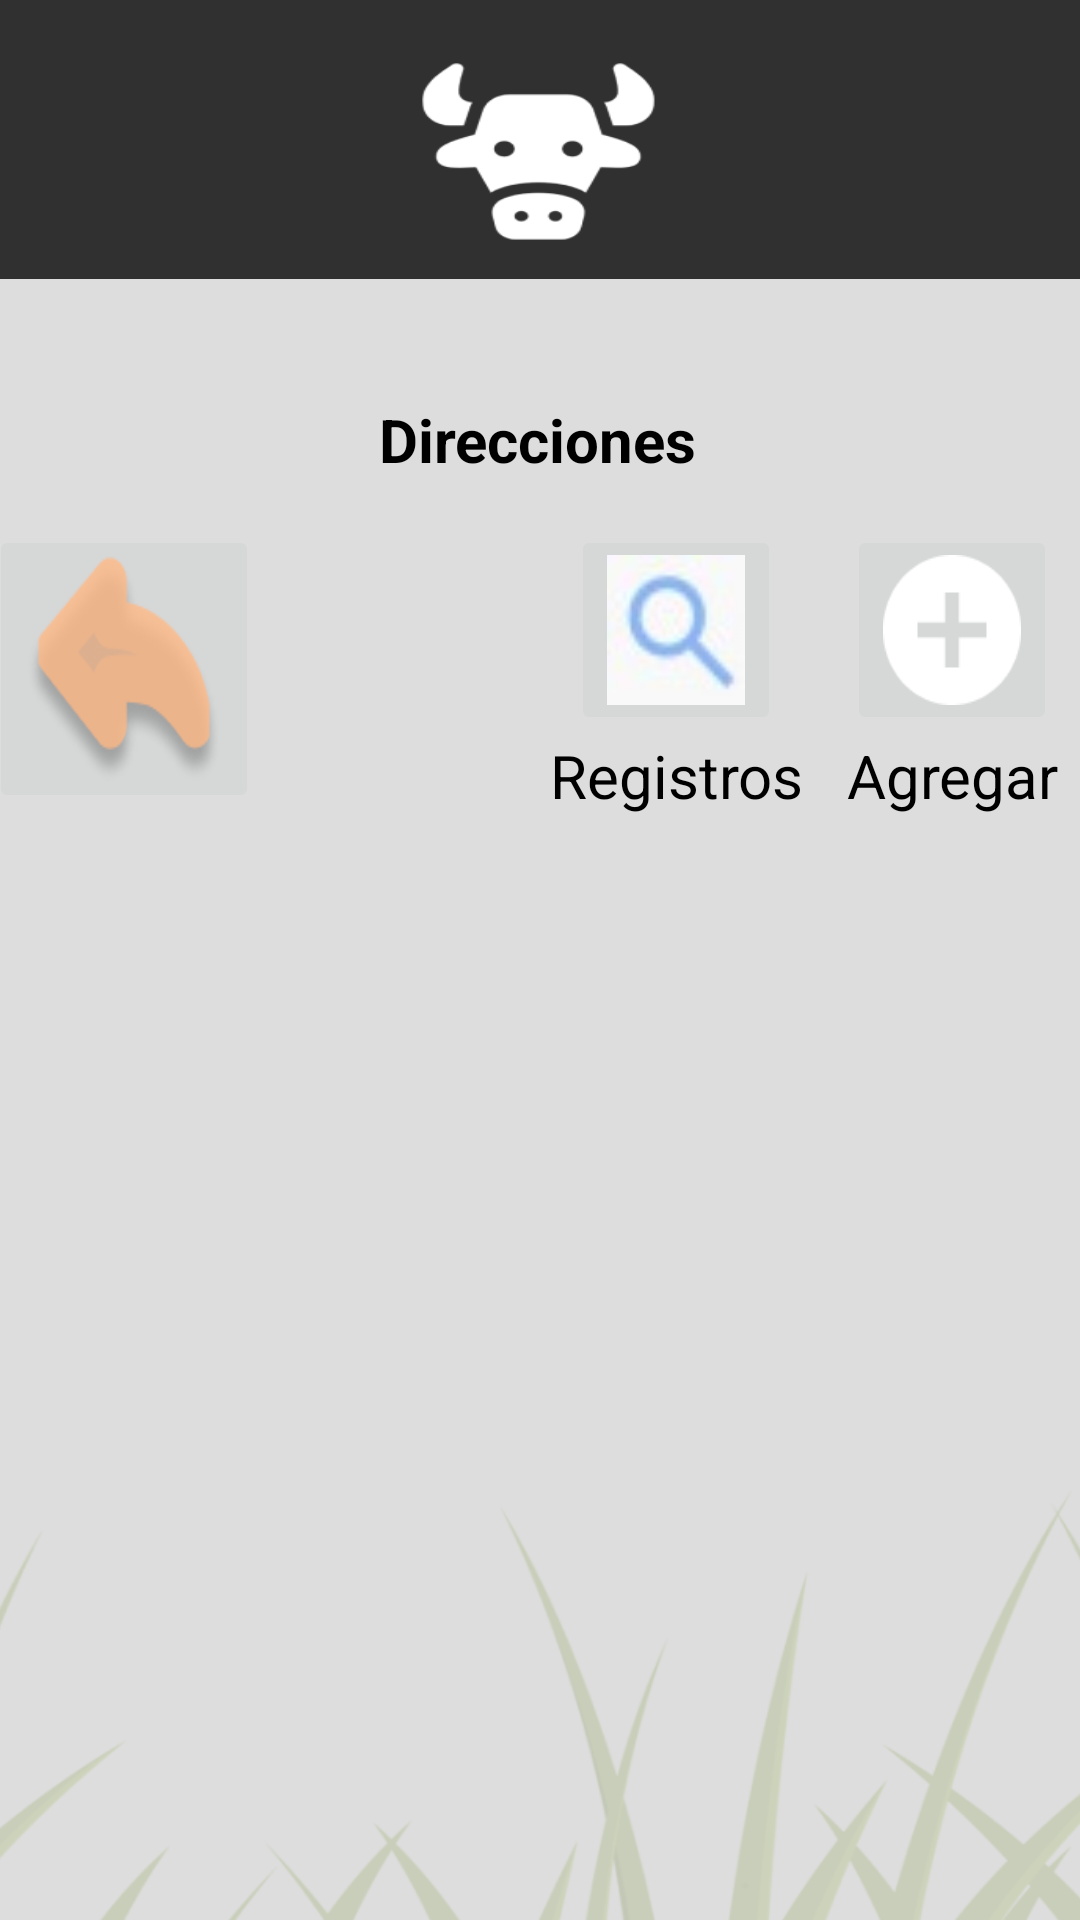

Icons on this 1080w x 1920h Android screen, each with its box as (x1, y1, x2, y2):
add: (883, 555, 1021, 705)
atras naranja: (36, 557, 212, 769)
search: (607, 555, 745, 705)
